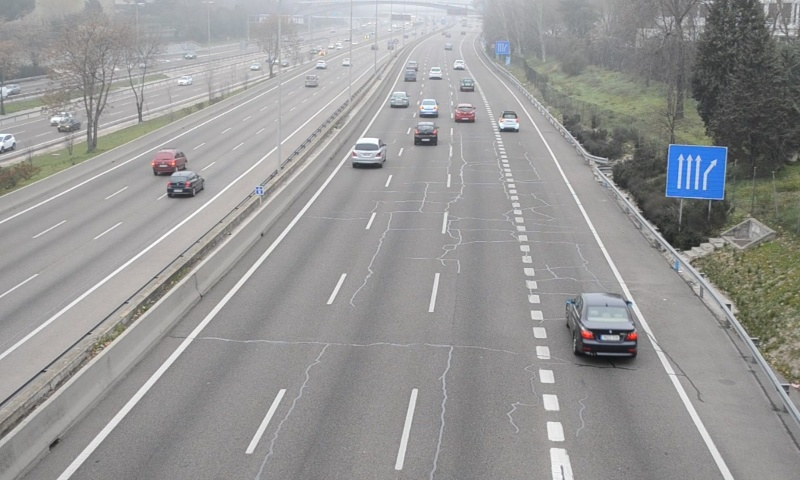car: (567, 292, 638, 358), (350, 137, 387, 167), (412, 120, 438, 143), (453, 102, 476, 124), (498, 110, 520, 131), (418, 98, 439, 118), (388, 90, 409, 108), (459, 76, 475, 92)
